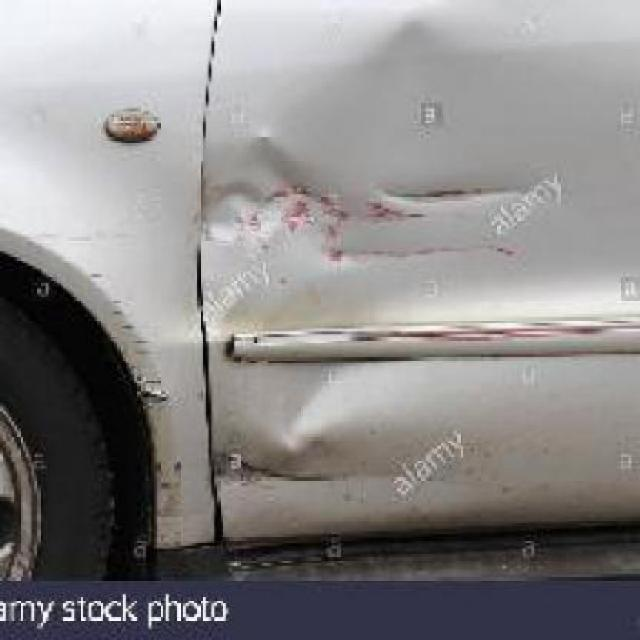dent-or-scratch: (198, 135, 572, 497)
